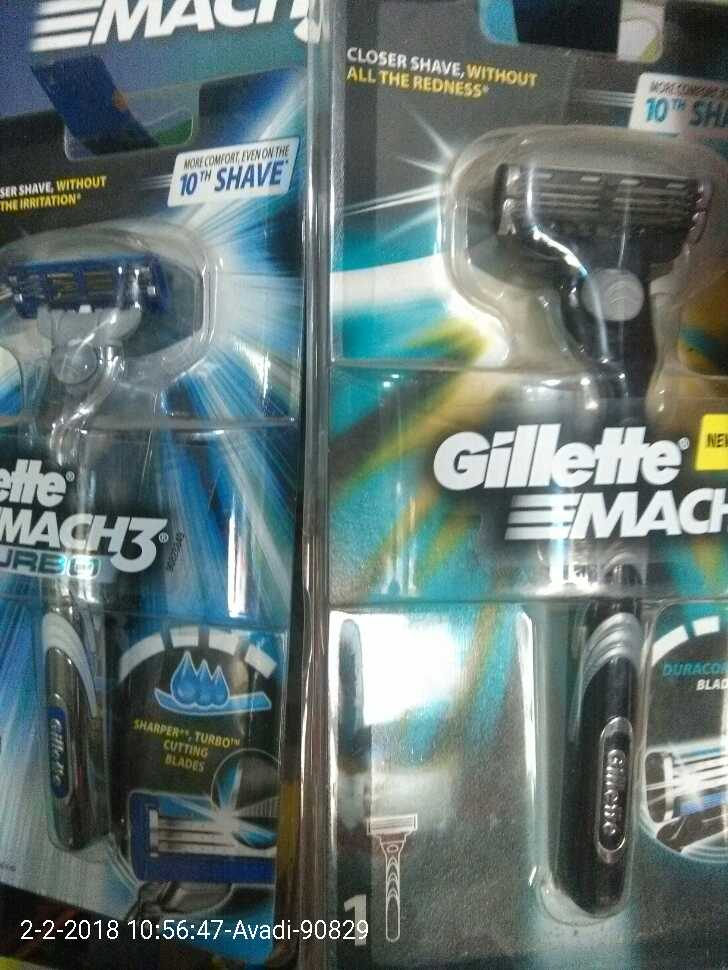gillette: (338, 37, 728, 913), (3, 110, 280, 948)
